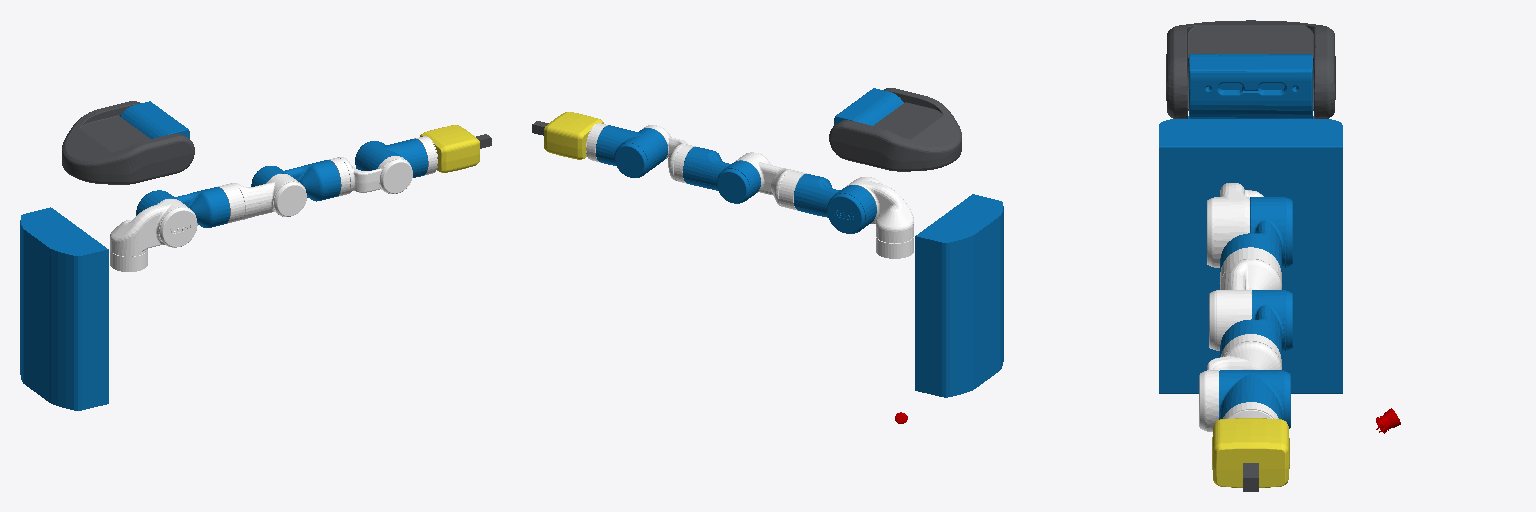
robot.urdf — fetch:
<?xml version="1.0" ?>
<robot name="fetch">
  <link name="base_link">
    <inertial>
      <origin rpy="0 0 0" xyz="-0.0036 0.0 0.0014" />
      <mass value="70.1294" />
      <inertia ixx="1.225" ixy="0.0099" ixz="0.0062" iyy="1.2853" iyz="-0.0034" izz="0.987" />
    </inertial>
    <visual>
      <origin rpy="0 0 0" xyz="0 0 0" />
      <geometry>
        <mesh filename="../meshes/base_link.dae" />
      </geometry>
      <material name="mat0">
        <color rgba="0.356 0.361 0.376 1" />
      </material>
    </visual>
    <collision group="2">
      <origin rpy="0 0 0" xyz="0 0 0.4" />
      <geometry>
        <!--<mesh filename="../meshes/base_link_collision.STL" />-->
        <cylinder length="0.8" radius="0.3"/>
      </geometry>
    </collision>
  </link>
  <link name="torso_lift_link">
    <inertial>
      <origin rpy="0 0 0" xyz="-0.0013 -0.0009 0.2935" />
      <mass value="10.7796" />
      <inertia ixx="0.3354" ixy="0.0" ixz="-0.0162" iyy="0.3354" iyz="-0.0006" izz="0.0954" />
    </inertial>
    <visual>
      <origin rpy="0 0 0" xyz="0 0 0" />
      <geometry>
        <mesh filename="../meshes/torso_lift_link.dae" />
      </geometry>
      <material name="math3">
        <color rgba="1 1 1 1" />
      </material>
    </visual>
  </link>
  <joint name="torso_lift_joint" type="prismatic">
    <origin rpy="-6.123E-17 0 0" xyz="-0.086875 0 0.37743" />
    <parent link="base_link" />
    <child link="torso_lift_link" />
    <axis xyz="0 0 1" />
    <limit effort="450.0" lower="0" upper="0.38615" velocity="0.1" />
  <dynamics damping="100.0" /></joint>
  <link name="head_pan_link">
    <inertial>
      <origin rpy="0 0 0" xyz="0.0321 0.0161 0.0390" />
      <mass value="2.2556" />
      <inertia ixx="0.0129" ixy="0.0002" ixz="0.0007" iyy="0.0095" iyz="-0.0" izz="0.0184" />
    </inertial>
    <visual>
      <origin rpy="0 0 0" xyz="0 0 0" />
      <geometry>
        <mesh filename="../meshes/head_pan_link.dae" />
      </geometry>
      <material name="math4">
        <color rgba="0.356 0.361 0.376 1" />
      </material>
    </visual>
  </link>
  <joint name="head_pan_joint" type="revolute">
    <origin rpy="0 0 0" xyz="0.053125 0 0.603001417713939" />
    <parent link="torso_lift_link" />
    <child link="head_pan_link" />
    <axis xyz="0 0 1" />
  <limit effort="0.32" lower="-1.57" upper="1.57" velocity="1.57" /></joint>
  <link name="head_tilt_link">
    <inertial>
      <origin rpy="0 0 0" xyz="0.0081 0.0025 0.0113" />
      <mass value="0.9087" />
      <inertia ixx="0.0061" ixy="-0.0" ixz="0.0002" iyy="0.0014" iyz="-0.0001" izz="0.0061" />
    </inertial>
    <visual>
      <origin rpy="0 0 0" xyz="0 0 0" />
      <geometry>
        <mesh filename="../meshes/head_tilt_link.dae" />
      </geometry>
      <material name="5">
        <color rgba="0.086 0.506 0.767 1" />
      </material>
    </visual>
  </link>
  <joint name="head_tilt_joint" type="revolute">
    <origin rpy="0 0 0" xyz="0.14253 0 0.057999" />
    <parent link="head_pan_link" />
    <child link="head_tilt_link" />
    <axis xyz="0 1 0" />
    <limit effort="0.68" lower="-0.76" upper="1.45" velocity="1.57" />
  </joint>
  <link name="shoulder_pan_link">
    <inertial>
      <origin rpy="0 0 0" xyz="0.0927 -0.0056 0.0564" />
      <mass value="2.5587" />
      <inertia ixx="0.0043" ixy="-0.0001" ixz="0.001" iyy="0.0087" iyz="-0.0001" izz="0.0087" />
    </inertial>
    <visual>
      <origin rpy="0 0 0" xyz="0 0 0" />
      <geometry>
        <mesh filename="../meshes/shoulder_pan_link.dae" />
      </geometry>
      <material name="6">
        <color rgba="1 1 1 1" />
      </material>
    </visual>
  </link>
  <joint name="shoulder_pan_joint" type="revolute">
    <origin rpy="0 0 0" xyz="0.119525 0 0.34858" />
    <parent link="torso_lift_link" />
    <child link="shoulder_pan_link" />
    <axis xyz="0 0 1" />
    <dynamics damping="1.0" />
    <limit effort="33.82" lower="-1.6056" upper="1.6056" velocity="1.256" />
  </joint>
  <link name="shoulder_lift_link">
    <inertial>
      <origin rpy="0 0 0" xyz="0.1432 0.0072 -0.0001" />
      <mass value="2.6615" />
      <inertia ixx="0.0028" ixy="-0.0021" ixz="-0.0" iyy="0.0111" iyz="-0.0" izz="0.0112" />
    </inertial>
    <visual>
      <origin rpy="0 0 0" xyz="0 0 0" />
      <geometry>
        <mesh filename="../meshes/shoulder_lift_link.dae" />
      </geometry>
      <material name="7">
        <color rgba="0.086 0.506 0.767 1" />
      </material>
    </visual>
    <collision group="32">
      <origin rpy="0 0 0" xyz="0 0 0" />
      <geometry>
        <mesh filename="../meshes/shoulder_lift_link_collision.STL" />
      </geometry>
    </collision>
  </link>
  <joint name="shoulder_lift_joint" type="revolute">
    <origin rpy="0 0 0" xyz="0.117 0 0.0599999999999999" />
    <parent link="shoulder_pan_link" />
    <child link="shoulder_lift_link" />
    <axis xyz="0 1 0" />
    <dynamics damping="1.0" />
    <limit effort="131.76" lower="-1.221" upper="1.518" velocity="1.454" />
  </joint>
  <link name="upperarm_roll_link">
    <inertial>
      <origin rpy="0 0 0" xyz="0.1165 0.0014 0.0000" />
      <mass value="2.3311" />
      <inertia ixx="0.0019" ixy="-0.0001" ixz="0.0" iyy="0.0045" iyz="0.0" izz="0.0047" />
    </inertial>
    <visual>
      <origin rpy="0 0 0" xyz="0 0 0" />
      <geometry>
        <mesh filename="../meshes/upperarm_roll_link.dae" />
      </geometry>
      <material name="8">
        <color rgba="1 1 1 1" />
      </material>
    </visual>
    <collision group="32">
      <origin rpy="0 0 0" xyz="0 0 0" />
      <geometry>
        <mesh filename="../meshes/upperarm_roll_link_collision.STL" />
      </geometry>
    </collision>
  </link>
  <joint name="upperarm_roll_joint" type="continuous">
    <origin rpy="0 0 0" xyz="0.219 0 0" />
    <parent link="shoulder_lift_link" />
    <child link="upperarm_roll_link" />
    <axis xyz="1 0 0" />
    <dynamics damping="5.0" />
    <limit effort="76.94" velocity="1.571" />
  </joint>
  <link name="elbow_flex_link">
    <inertial>
      <origin rpy="0 0 0" xyz="0.1279 0.0073 0.0000" />
      <mass value="2.1299" />
      <inertia ixx="0.0024" ixy="-0.0016" ixz="0.0" iyy="0.0082" iyz="-0.0" izz="0.0084" />
    </inertial>
    <visual>
      <origin rpy="0 0 0" xyz="0 0 0" />
      <geometry>
        <mesh filename="../meshes/elbow_flex_link.dae" />
      </geometry>
      <material name="9">
        <color rgba="0.086 0.506 0.767 1" />
      </material>
    </visual>
    <collision group="32">
      <origin rpy="0 0 0" xyz="0 0 0" />
      <geometry>
        <mesh filename="../meshes/elbow_flex_link_collision.STL" />
      </geometry>
    </collision>
  </link>
  <joint name="elbow_flex_joint" type="revolute">
    <origin rpy="0 0 0" xyz="0.133 0 0" />
    <parent link="upperarm_roll_link" />
    <child link="elbow_flex_link" />
    <axis xyz="0 1 0" />
    <dynamics damping="1.0" />
    <limit effort="66.18" lower="-2.251" upper="2.251" velocity="1.521" />
  </joint>
  <link name="forearm_roll_link">
    <inertial>
      <origin rpy="0 0 0" xyz="0.1097 -0.0266 0.0000" />
      <mass value="1.6563" />
      <inertia ixx="0.0016" ixy="-0.0003" ixz="0.0" iyy="0.003" iyz="-0.0" izz="0.0035" />
    </inertial>
    <visual>
      <origin rpy="0 0 0" xyz="0 0 0" />
      <geometry>
        <mesh filename="../meshes/forearm_roll_link.dae" />
      </geometry>
      <material name="10">
        <color rgba="1 1 1 1" />
      </material>
    </visual>
    <collision group="32">
      <origin rpy="0 0 0" xyz="0 0 0" />
      <geometry>
        <mesh filename="../meshes/forearm_roll_link_collision.STL" />
      </geometry>
    </collision>
  </link>
  <joint name="forearm_roll_joint" type="continuous">
    <origin rpy="0 0 0" xyz="0.197 0 0" />
    <parent link="elbow_flex_link" />
    <child link="forearm_roll_link" />
    <axis xyz="1 0 0" />
    <dynamics damping="5.0" />
    <limit effort="29.35" velocity="1.571" />
  </joint>
  <link name="wrist_flex_link">
    <inertial>
      <origin rpy="0 0 0" xyz="0.0882 0.0009 -0.0001" />
      <mass value="1.725" />
      <inertia ixx="0.0018" ixy="-0.0001" ixz="-0.0" iyy="0.0042" iyz="0.0" izz="0.0042" />
    </inertial>
    <visual>
      <origin rpy="0 0 0" xyz="0 0 0" />
      <geometry>
        <mesh filename="../meshes/wrist_flex_link.dae" />
      </geometry>
      <material name="11">
        <color rgba="0.086 0.506 0.767 1" />
      </material>
    </visual>
    <collision group="32">
      <origin rpy="0 0 0" xyz="0 0 0" />
      <geometry>
        <mesh filename="../meshes/wrist_flex_link_collision.STL" />
      </geometry>
    </collision>
  </link>
  <joint name="wrist_flex_joint" type="revolute">
    <origin rpy="0 0 0" xyz="0.1245 0 0" />
    <parent link="forearm_roll_link" />
    <child link="wrist_flex_link" />
    <axis xyz="0 1 0" />
    <dynamics damping="1.0" />
    <limit effort="25.7" lower="-2.16" upper="2.16" velocity="2.268" />
  </joint>
  <link name="wrist_roll_link">
    <inertial>
      <origin rpy="0 0 0" xyz="0.0095 0.0004 -0.0002" />
      <mass value="0.1354" />
      <inertia ixx="0.0001" ixy="0.0" ixz="0.0" iyy="0.0001" iyz="0.0" izz="0.0001" />
    </inertial>
    <visual>
      <origin rpy="0 0 0" xyz="0 0 0" />
      <geometry>
        <mesh filename="../meshes/wrist_roll_link.dae" />
      </geometry>
      <material name="12">
        <color rgba="1 1 1 1" />
      </material>
    </visual>
    <collision group="32">
      <origin rpy="0 0 0" xyz="0 0 0" />
      <geometry>
        <mesh filename="../meshes/wrist_roll_link_collision.STL" />
      </geometry>
    </collision>
  </link>
  <joint name="wrist_roll_joint" type="continuous">
    <origin rpy="0 0 0" xyz="0.1385 0 0" />
    <parent link="wrist_flex_link" />
    <child link="wrist_roll_link" />
    <axis xyz="1 0 0" />
    <limit effort="7.36" velocity="2.268" />
    <dynamics damping="5.0" />
  </joint>
  <link name="gripper_link">
    <inertial>
      <origin rpy="0 0 0" xyz="-0.0900 -0.0001 -0.0017" />
      <mass value="1.5175" />
      <inertia ixx="0.0013" ixy="-0.0" ixz="0.0" iyy="0.0019" iyz="-0.0" izz="0.0024" />
    </inertial>
    <visual>
      <origin rpy="0 0 0" xyz="0 0 0" />
      <geometry>
        <mesh filename="../meshes/gripper_link.dae" />
      </geometry>
    </visual>
    <collision group="32">
      <origin rpy="0 0 0" xyz="0 0 0" />
      <geometry>
        <mesh filename="../meshes/gripper_link.STL" />
      </geometry>
    </collision>
  </link>
  <joint name="gripper_axis" type="fixed">
    <origin rpy="0 0 0" xyz="0.16645 0 0" />
    <parent link="wrist_roll_link" />
    <child link="gripper_link" />
    <axis xyz="0 1 0" />
  </joint>
  <link name="r_gripper_finger_link">
    <inertial>
      <origin rpy="0 0 0" xyz="-0.01 0 0" />
      <mass value="0.0798" />
      <inertia ixx="0.002" ixy="0" ixz="0" iyy="0" iyz="0" izz="0" />
    </inertial>
    <visual>
      <origin rpy="0 0 0" xyz="0 0.101425 0" />
      <geometry>
        <mesh filename="../meshes/r_gripper_finger_link_opt.stl" />
      </geometry>
      <material name="13">
        <color rgba="0.356 0.361 0.376 1" />
      </material>
    </visual>
    <collision group="32">
      <origin rpy="0 0 0" xyz="0 0.101425 0" />
      <geometry>
        <mesh filename="../meshes/r_gripper_finger_link_opt.stl" />
      </geometry>
    </collision>
  </link>
  <joint name="r_gripper_finger_joint" type="prismatic">
    <origin rpy="0 0 0" xyz="0 0.015425 0" />
    <parent link="gripper_link" />
    <child link="r_gripper_finger_link" />
    <axis xyz="0 1 0" />
  <limit effort="60" lower="0.0" upper="0.05" velocity="0.05" /><dynamics damping="100.0" /></joint>
  <link name="l_gripper_finger_link">
    <inertial>
      <origin rpy="0 0 0" xyz="-0.01 0 0" />
      <mass value="0.0798" />
      <inertia ixx="0.002" ixy="0" ixz="0" iyy="0" iyz="0" izz="0" />
    </inertial>
    <visual>
      <origin rpy="0 0 0" xyz="0 -0.101425 0" />
      <geometry>
        <mesh filename="../meshes/l_gripper_finger_link_opt.stl" />
      </geometry>
      <material name="14">
        <color rgba="0.356 0.361 0.376 1" />
      </material>
    </visual>
    <collision group="32">
      <origin rpy="0 0 0" xyz="0 -0.101425 0" />
      <geometry>
        <mesh filename="../meshes/l_gripper_finger_link_opt.stl" />
      </geometry>
    </collision>
  </link>
  <joint name="l_gripper_finger_joint" type="prismatic">
    <origin rpy="0 0 0" xyz="0 -0.015425 0" />
    <parent link="gripper_link" />
    <child link="l_gripper_finger_link" />
    <axis xyz="0 -1 0" />
  <limit effort="60" lower="0.0" upper="0.05" velocity="0.05" /><dynamics damping="100.0" /></joint>
  <link name="bellows_link">
    <inertial>
      <origin rpy="0 0 0" xyz="0.0191320000286228 -1.67219873481315E-16 -0.134861625443387" />
      <mass value="0.169374038216602" />
      <inertia ixx="0.00331159128762117" ixy="-8.9230964321455E-18" ixz="-5.38622201018293E-08" iyy="0.00174447292786627" iyz="-8.06964979976371E-17" izz="0.00169417568121457" />
    </inertial>
    <visual>
      <origin rpy="0 0 0" xyz="0 0 0" />
      <geometry>
        <mesh filename="../meshes/bellows_link.STL" />
      </geometry>
      <material name="15">
        <color rgba="0 0 0 1" />
      </material>
    </visual>
    <collision group="2">
      <origin rpy="0 0 0" xyz="0 0 0" />
      <geometry>
        <mesh filename="../meshes/bellows_link_collision.STL" />
      </geometry>
    </collision>
  </link>
  <joint name="bellows_joint" type="prismatic">
    <origin rpy="0 0 0" xyz="0 0 0" />
    <parent link="torso_lift_link" />
    <child link="bellows_link" />
    <axis xyz="0 0 -1" />
  <limit effort="5.0" lower="0" upper="0.4" velocity="0.1" /></joint>
  <link name="bellows_link2">
    <inertial>
      <origin rpy="0 0 0" xyz="0.0191320000286228 -1.67219873481315E-16 -0.134861625443387" />
      <mass value="0.169374038216602" />
      <inertia ixx="0.00331159128762117" ixy="-8.9230964321455E-18" ixz="-5.38622201018293E-08" iyy="0.00174447292786627" iyz="-8.06964979976371E-17" izz="0.00169417568121457" />
    </inertial>
    <visual>
      <origin rpy="0 0 0" xyz="0 0 0" />
      <geometry>
        <mesh filename="../meshes/bellows_link.STL" />
      </geometry>
      <material name="16">
        <color rgba="0 0 0 1" />
      </material>
    </visual>
    <collision group="2">
      <origin rpy="0 0 0" xyz="0 0 0" />
      <geometry>
        <mesh filename="../meshes/bellows_link_collision.STL" />
      </geometry>
    </collision>
  </link>
  <joint name="bellows_joint2" type="fixed">
    <origin rpy="0 0 0" xyz="0 0 0" />
    <parent link="torso_lift_link" />
    <child link="bellows_link2" />
  </joint>
  <link name="estop_link">
    <inertial>
      <origin rpy="0 0 0" xyz="0.002434512737072 -0.00330608315239905 0.00665139196650039" />
      <mass value="0.00196130439134723" />
      <inertia ixx="3.02810026604417E-07" ixy="-1.5862023118056E-08" ixz="3.16561396557437E-08" iyy="2.93322917127605E-07" iyz="-4.28833522751273E-08" izz="2.28513272627183E-07" />
    </inertial>
    <visual>
      <origin rpy="0 0 0" xyz="0 0 0" />
      <geometry>
        <mesh filename="../meshes/estop_link.dae" />
      </geometry>
      <material name="17">
        <color rgba="0.8 0 0 1" />
      </material>
    </visual>
  </link>
  <joint name="estop_joint" type="fixed">
    <origin rpy="1.5708 0 0" xyz="-0.12465 0.23892 0.31127" />
    <parent link="base_link" />
    <child link="estop_link" />
    <axis xyz="0 0 0" />
  </joint>
  <link name="laser_link">
    <inertial>
      <origin rpy="0 0 0" xyz="-0.0306228970175641 0.0007091682908278 0.0551974119471302" />
      <mass value="0.00833634573995571" />
      <inertia ixx="1.01866461240801E-06" ixy="-5.88447626567756E-08" ixz="7.83857244757914E-08" iyy="5.10039589974707E-07" iyz="-7.12664289617235E-09" izz="1.28270671527309E-06" />
    </inertial>
    <visual>
      <origin rpy="0 0 0" xyz="0 0 0" />
      <geometry>
        <mesh filename="../meshes/laser_link.STL" />
      </geometry>
      <material name="18">
        <color rgba="0.792156862745098 0.819607843137255 0.933333333333333 1" />
      </material>
    </visual>
  </link>
  <joint name="laser_joint" type="fixed">
    <origin rpy="3.14159265359 0 0" xyz="0.235 0 0.2878" />
    <parent link="base_link" />
    <child link="laser_link" />
    <axis xyz="0 0 0" />
  </joint>
  <link name="torso_fixed_link">
    <inertial>
      <origin rpy="0 0 0" xyz="-0.0722 0.0057 0.2656" />
      <mass value="130.2775" />
      <inertia ixx="0.3861" ixy="0.0015" ixz="-0.0102" iyy="0.3388" iyz="0.0117" izz="0.1018" />
    </inertial>
    <visual>
      <origin rpy="0 0 0" xyz="0 0 0" />
      <geometry>
        <mesh filename="../meshes/torso_fixed_link.dae" />
      </geometry>
      <material name="">
        <color rgba="0.086 0.506 0.767 1" />
      </material>
    </visual>
  </link>
  <joint name="torso_fixed_joint" type="fixed">
    <origin rpy="-6.12303176911189E-17 0 0" xyz="-0.086875 0 0.377425" />
    <parent link="base_link" />
    <child link="torso_fixed_link" />
    <axis xyz="0 1 0" />
  </joint>
  <link name="head_camera_link" />
  <joint name="head_camera_joint" type="fixed">
    <origin rpy="0 0 0" xyz="0.055 0 0.0225" />
    <parent link="head_tilt_link" />
    <child link="head_camera_link" />
  </joint>
  <link name="head_camera_rgb_frame" />
  <joint name="head_camera_rgb_joint" type="fixed">
    <origin rpy="0 0 0" xyz="0 0.02 0" />
    <parent link="head_camera_link" />
    <child link="head_camera_rgb_frame" />
  </joint>
  <link name="head_camera_rgb_optical_frame" />
  <joint name="head_camera_rgb_optical_joint" type="fixed">
    <origin rpy="-1.57079632679 0 -1.57079632679" xyz="0 0 0" />
    <parent link="head_camera_rgb_frame" />
    <child link="head_camera_rgb_optical_frame" />
  </joint>
  <link name="head_camera_depth_frame" />
  <joint name="head_camera_depth_joint" type="fixed">
    <origin rpy="0 0 0" xyz="0 0.045 0" />
    <parent link="head_camera_link" />
    <child link="head_camera_depth_frame" />
  </joint>
  <link name="head_camera_depth_optical_frame" />
  <joint name="head_camera_depth_optical_joint" type="fixed">
    <origin rpy="-1.57079632679 0 -1.57079632679" xyz="0 0 0" />
    <parent link="head_camera_depth_frame" />
    <child link="head_camera_depth_optical_frame" />
  </joint>
</robot>

--- Render facts (derived) ---
Views: 3 orthographic renders of the robot side by side, from view 1: azimuth 30°, elevation 25°; view 2: azimuth 150°, elevation 25°; view 3: azimuth 270°, elevation 25°.
Model fetch with 24 links and 23 joints (6 revolute, 3 continuous, 4 prismatic, 10 fixed), rooted at base_link, posed all joints at 0.
Links seen in each view (by area): view 1: torso_fixed_link, head_pan_link, shoulder_pan_link, upperarm_roll_link, forearm_roll_link, elbow_flex_link, gripper_link, shoulder_lift_link, wrist_flex_link, head_tilt_link; view 2: torso_fixed_link, head_pan_link, shoulder_lift_link, elbow_flex_link, wrist_flex_link, shoulder_pan_link, gripper_link, upperarm_roll_link, head_tilt_link, forearm_roll_link; view 3: torso_fixed_link, head_pan_link, head_tilt_link, gripper_link, upperarm_roll_link, forearm_roll_link, shoulder_lift_link, wrist_flex_link, elbow_flex_link, shoulder_pan_link, wrist_roll_link.
Link boxes in pixels (x1=…): torso_fixed_link: x1=20, y1=207, x2=108, y2=410; head_pan_link: x1=62, y1=101, x2=194, y2=184; shoulder_pan_link: x1=110, y1=199, x2=197, y2=271; upperarm_roll_link: x1=218, y1=174, x2=306, y2=223; forearm_roll_link: x1=329, y1=156, x2=412, y2=196; elbow_flex_link: x1=251, y1=160, x2=340, y2=201; gripper_link: x1=420, y1=125, x2=479, y2=172; shoulder_lift_link: x1=136, y1=187, x2=229, y2=227; wrist_flex_link: x1=355, y1=139, x2=427, y2=177; head_tilt_link: x1=120, y1=101, x2=189, y2=138; torso_fixed_link: x1=915, y1=194, x2=1003, y2=397; head_pan_link: x1=829, y1=88, x2=961, y2=171; shoulder_lift_link: x1=794, y1=174, x2=876, y2=233; elbow_flex_link: x1=683, y1=147, x2=760, y2=203; wrist_flex_link: x1=596, y1=125, x2=667, y2=177; shoulder_pan_link: x1=846, y1=177, x2=913, y2=258; gripper_link: x1=544, y1=112, x2=603, y2=159; upperarm_roll_link: x1=735, y1=152, x2=806, y2=210; head_tilt_link: x1=834, y1=88, x2=903, y2=125; forearm_roll_link: x1=643, y1=125, x2=695, y2=183; torso_fixed_link: x1=1159, y1=116, x2=1342, y2=393; head_pan_link: x1=1166, y1=20, x2=1335, y2=118; head_tilt_link: x1=1189, y1=54, x2=1312, y2=118; gripper_link: x1=1212, y1=418, x2=1289, y2=487; upperarm_roll_link: x1=1209, y1=247, x2=1281, y2=350; forearm_roll_link: x1=1199, y1=334, x2=1281, y2=431; shoulder_lift_link: x1=1220, y1=197, x2=1292, y2=271; wrist_flex_link: x1=1219, y1=370, x2=1290, y2=428; elbow_flex_link: x1=1220, y1=290, x2=1292, y2=358; shoulder_pan_link: x1=1207, y1=183, x2=1263, y2=267; wrist_roll_link: x1=1223, y1=402, x2=1278, y2=418.
Size in the robot's own frame: 1.41 by 0.4087 by 0.806 metres.
14 mesh visuals loaded from 18 distinct referenced files (2 binary STL, 12 Collada DAE); not drawn: 5 (reference not matched to a file when rendering).